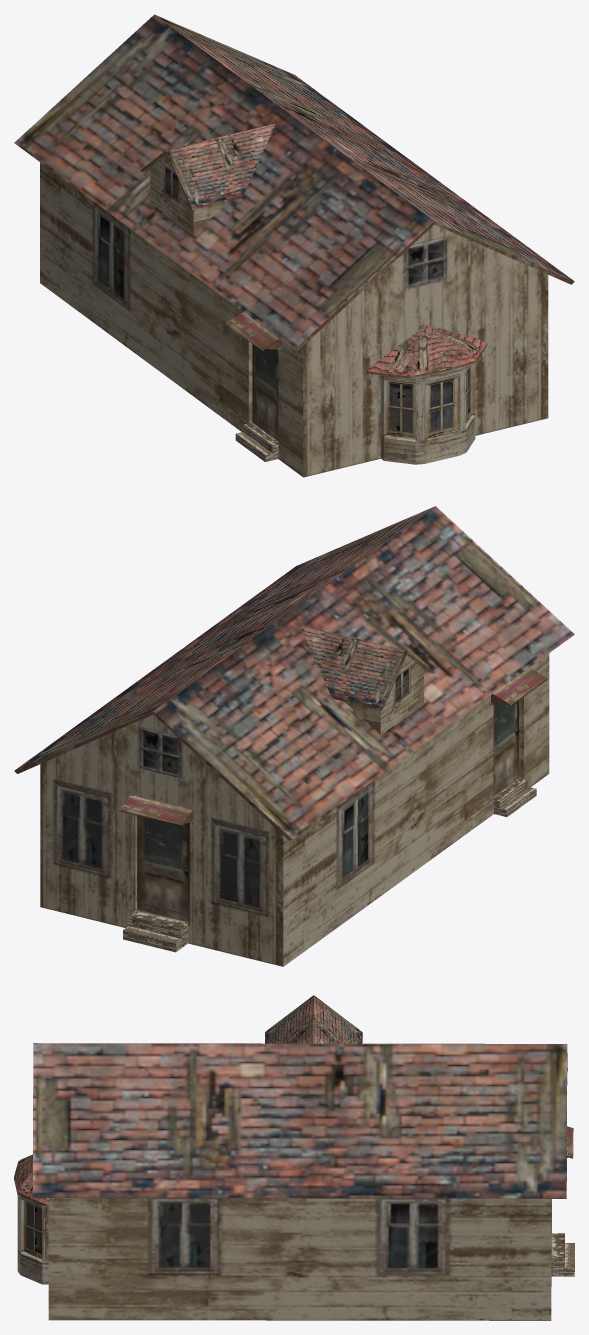
The model's file is casa.gltf.
The picture shows the model from 3 angles, top to bottom: view 1: azimuth 30°, elevation 25°; view 2: azimuth 150°, elevation 25°; view 3: azimuth 270°, elevation 25°; orthographic projection. The views are drawn at different scales.
Parts seen in each view (by area): view 1: casa; view 2: casa; view 3: casa.
Part boxes in pixels (<box>): casa: <box>14,14,574,477</box>; casa: <box>14,506,574,966</box>; casa: <box>14,995,574,1320</box>.
Size of the model in its own units: 7.71 by 6.03 by 13.89.
Materials: 1 (1 with a texture image).
